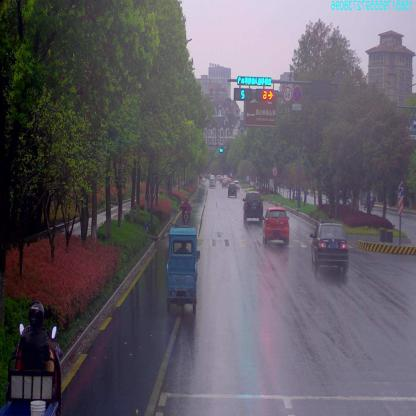traffic-light: (238, 78, 271, 84), (258, 92, 274, 101), (236, 90, 248, 98)
